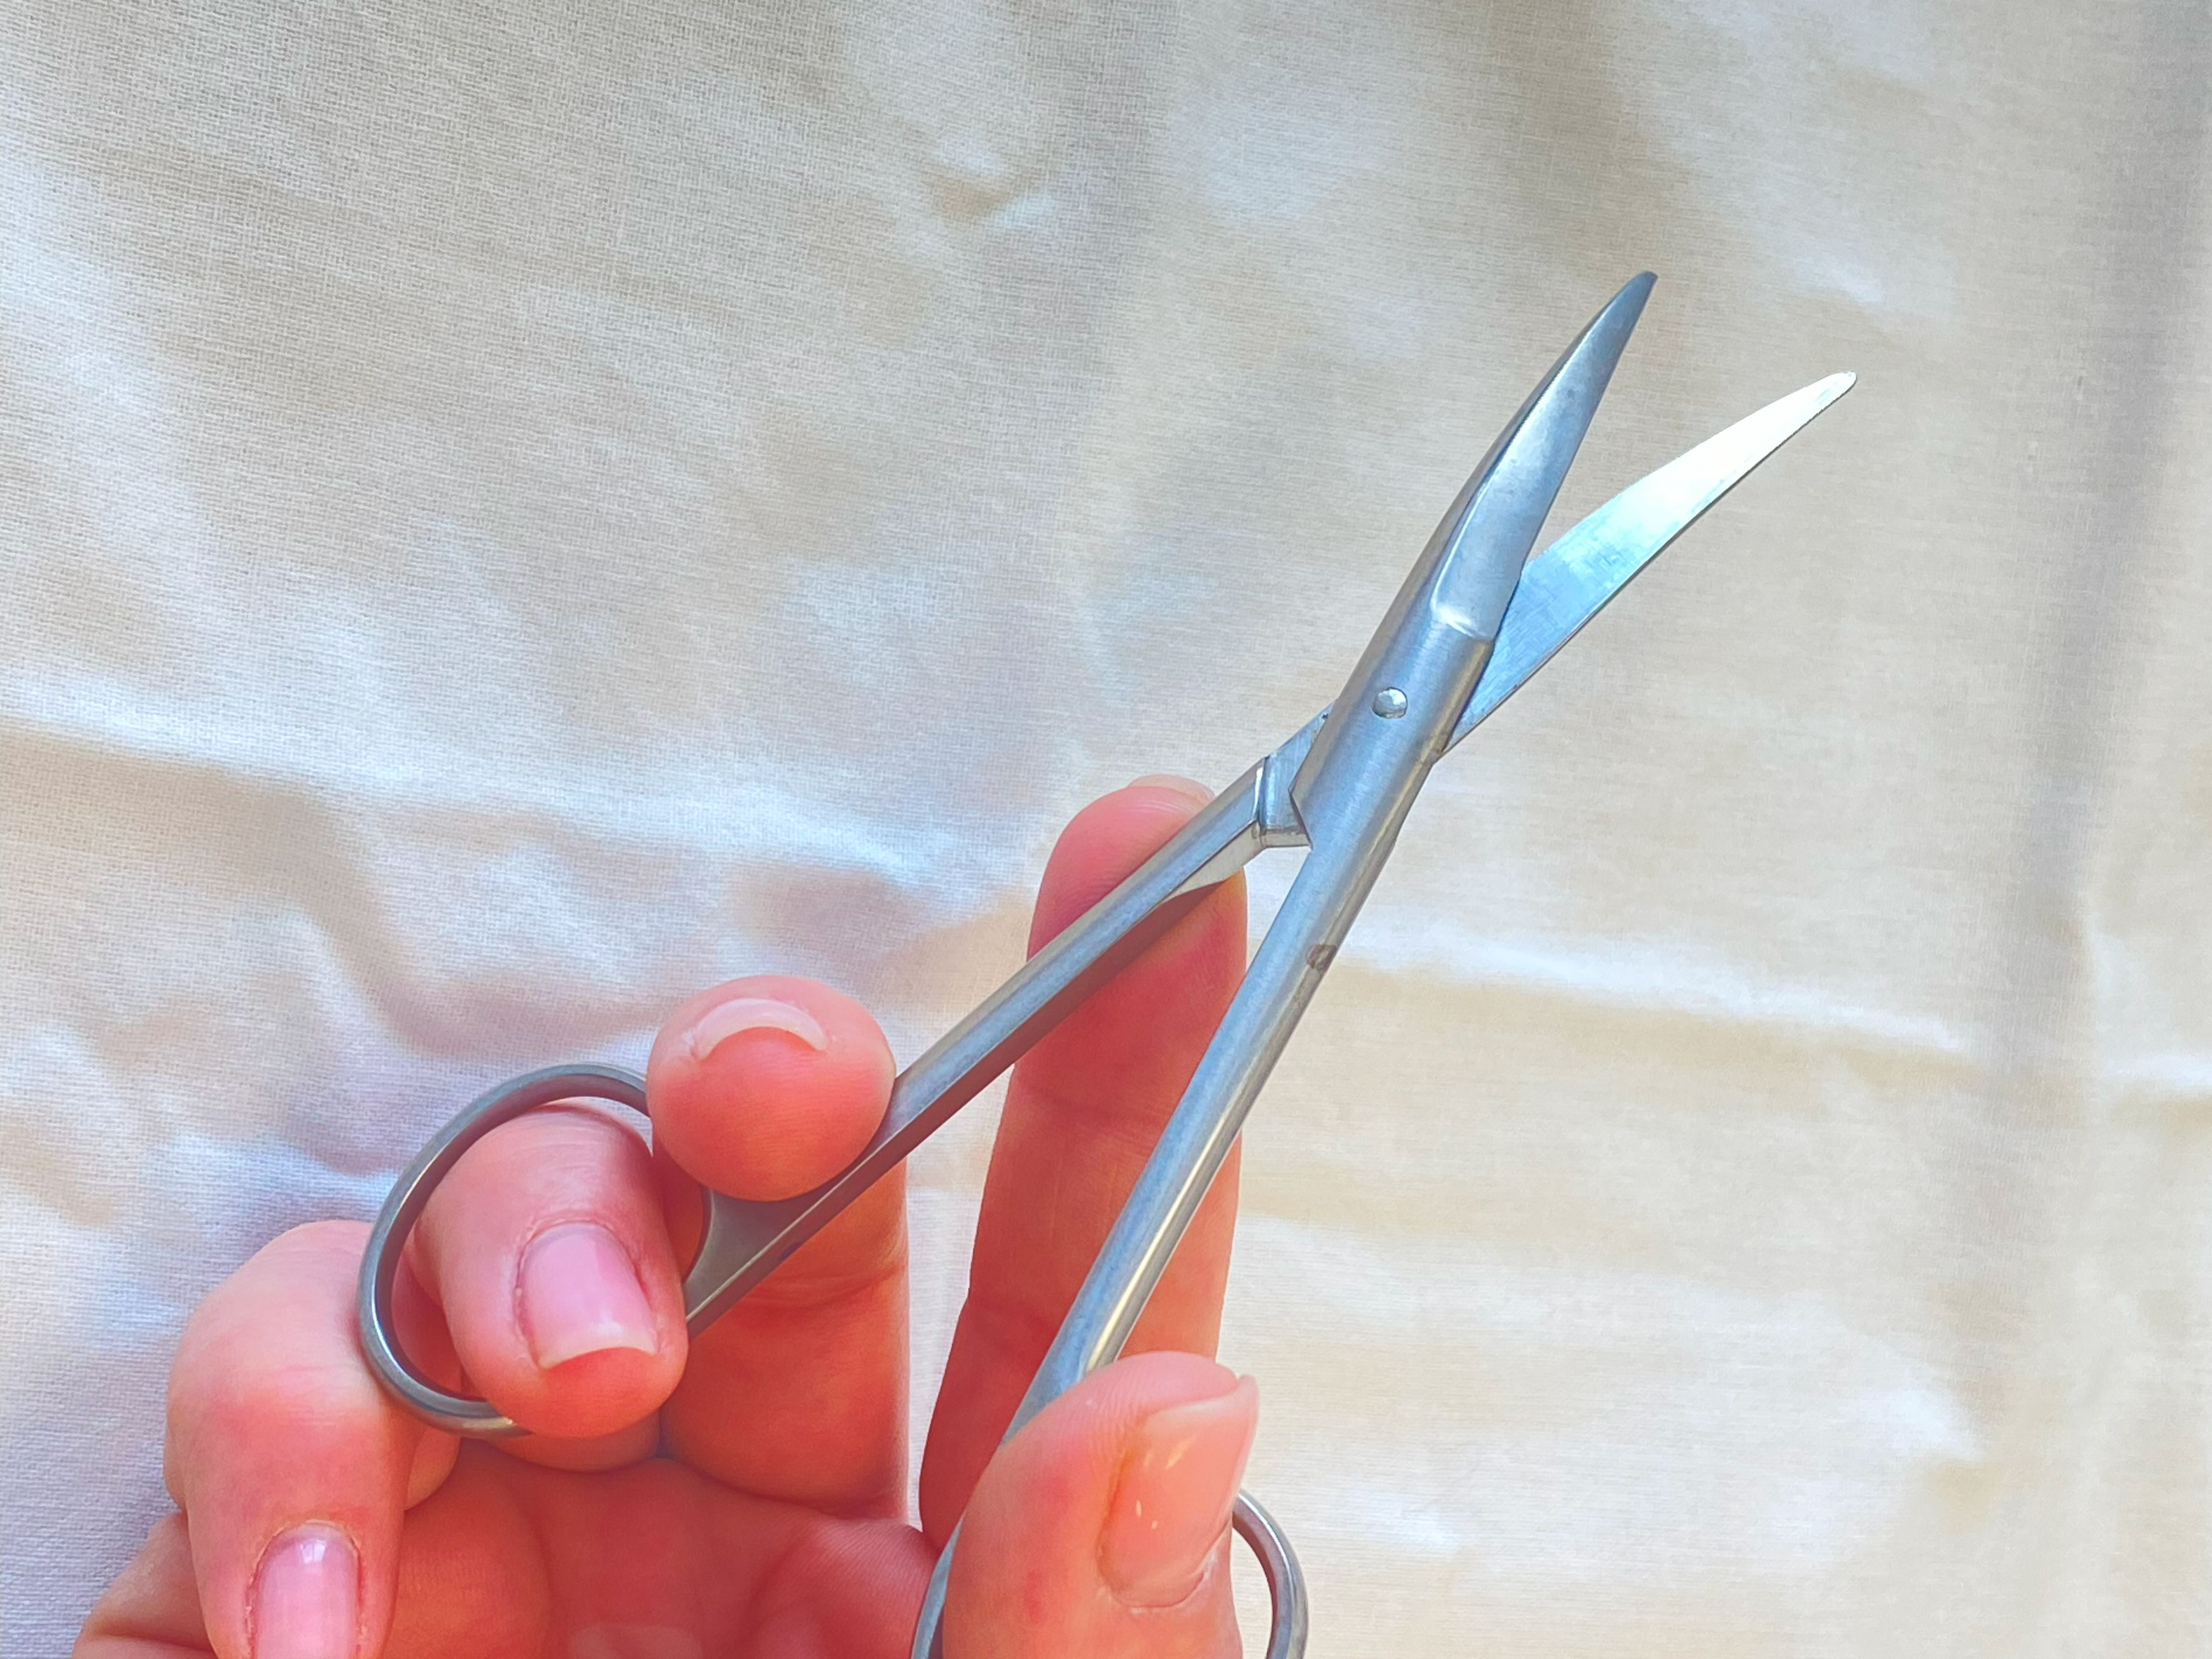scissors: (684, 274, 1853, 1422)
